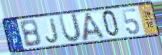0: (101, 9, 121, 40)
5: (120, 7, 141, 35)
A: (81, 11, 107, 43)
B: (18, 18, 43, 49)
J: (45, 17, 60, 44)
U: (57, 12, 83, 44)
